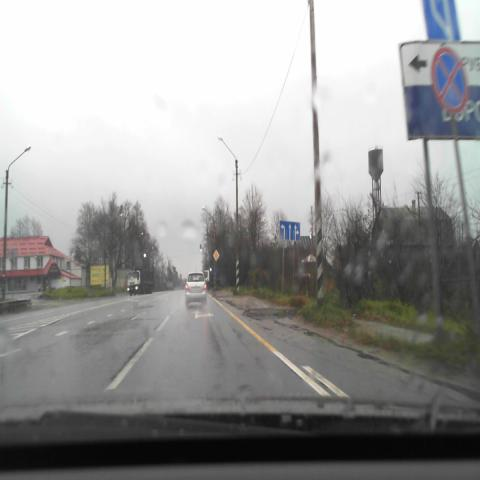3_27: (432, 47, 467, 111)
